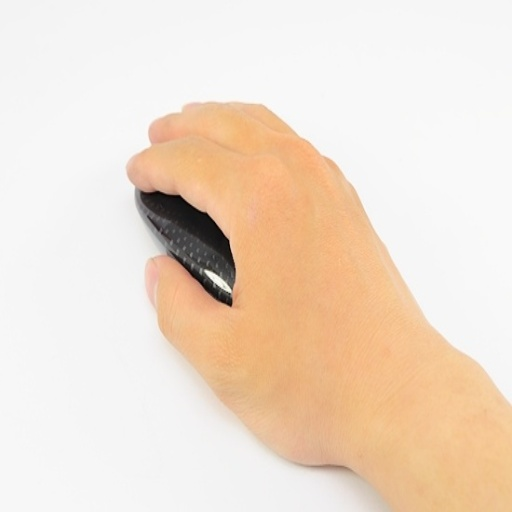hand: (125, 99, 429, 464)
